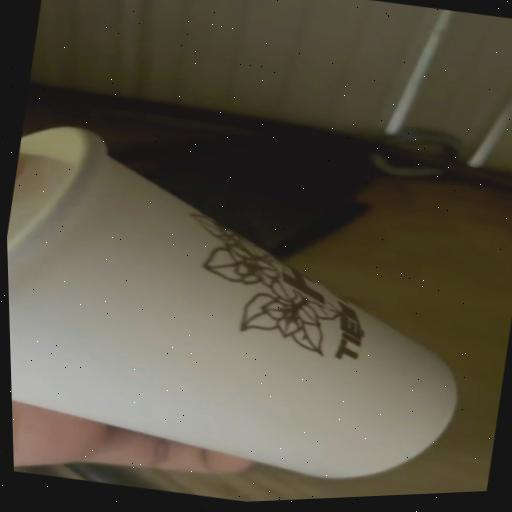Ly_giay: (7, 127, 455, 477)
